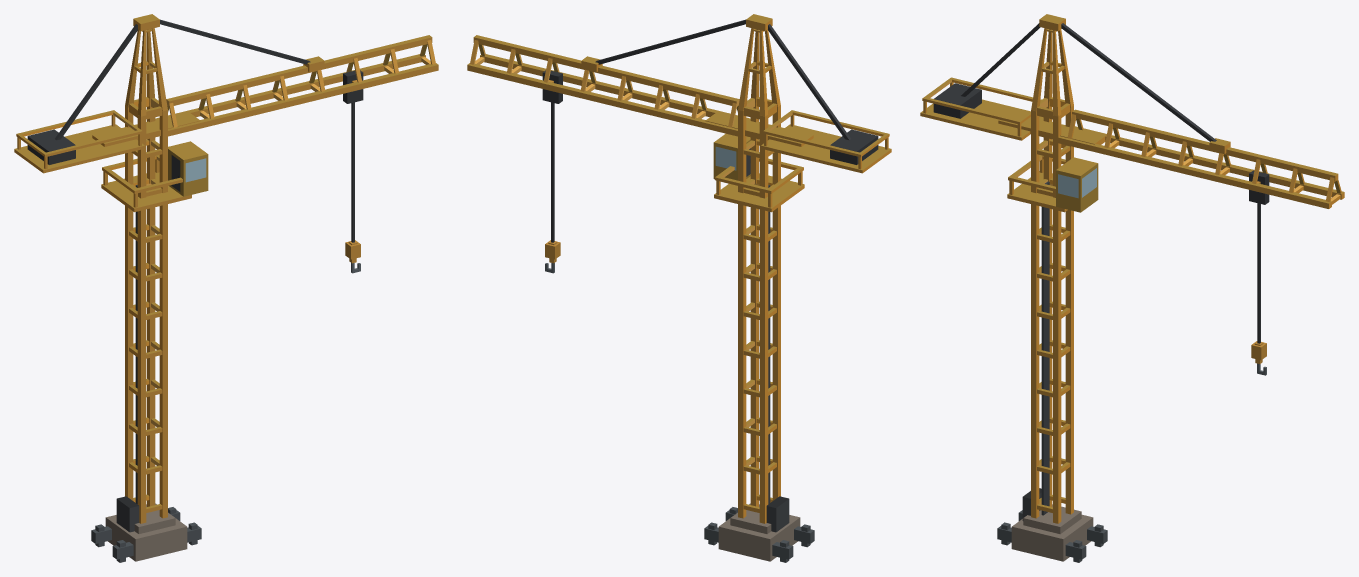
The model's file is SM_Prop_Crane_01.fbx.
3 renders of one model, left to right at view 1: azimuth 30°, elevation 25°; view 2: azimuth 150°, elevation 25°; view 3: azimuth 330°, elevation 25°, orthographic.
Parts seen in each view (by area): view 1: SM_Prop_Crane_01; view 2: SM_Prop_Crane_01; view 3: SM_Prop_Crane_01.
Part boxes in pixels (box(x1,y1,x2,y2)): SM_Prop_Crane_01: box(14, 14, 438, 562); SM_Prop_Crane_01: box(467, 14, 891, 562); SM_Prop_Crane_01: box(920, 14, 1344, 562).
Bounding box in the file's own units: 54.49 × 68.05 × 7.84.
